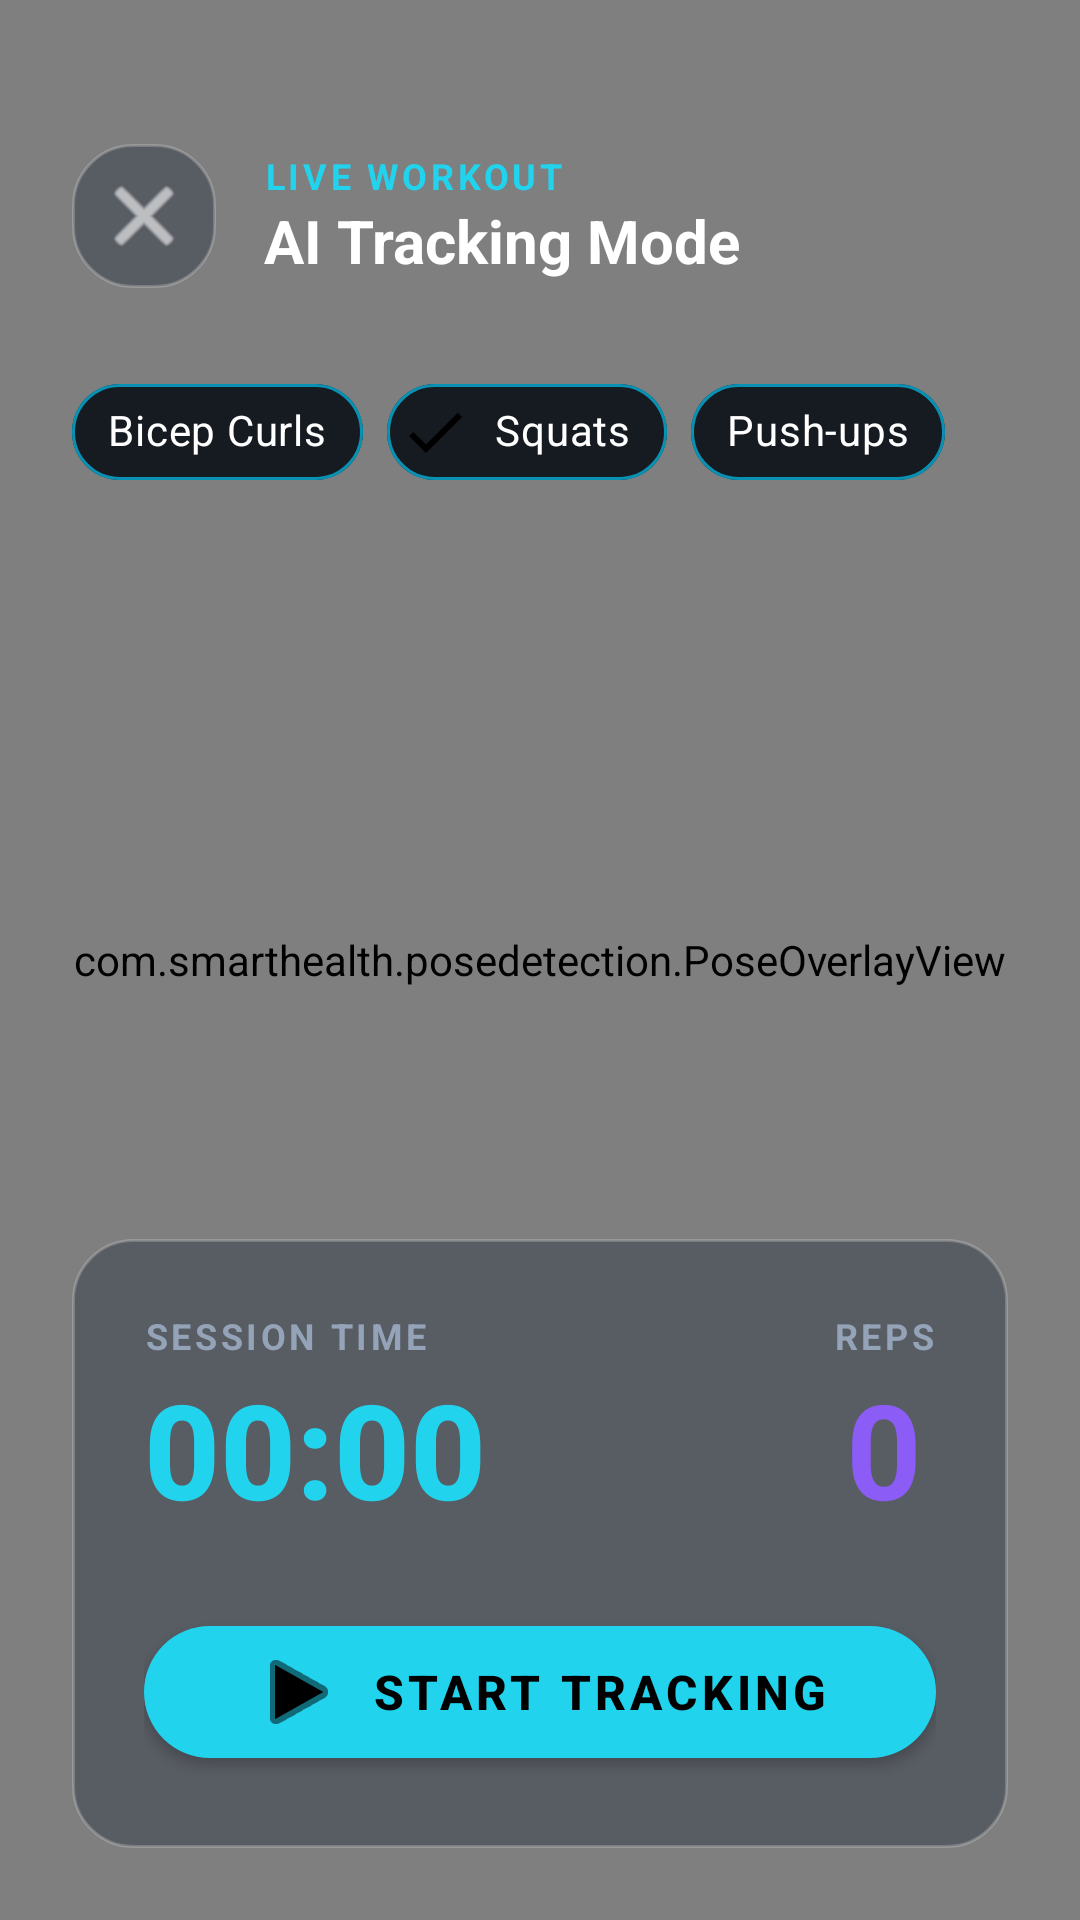

Where to tap for icons on this 1080px x 1920px app screen, as point (x, y):
Back: point (144, 216)
